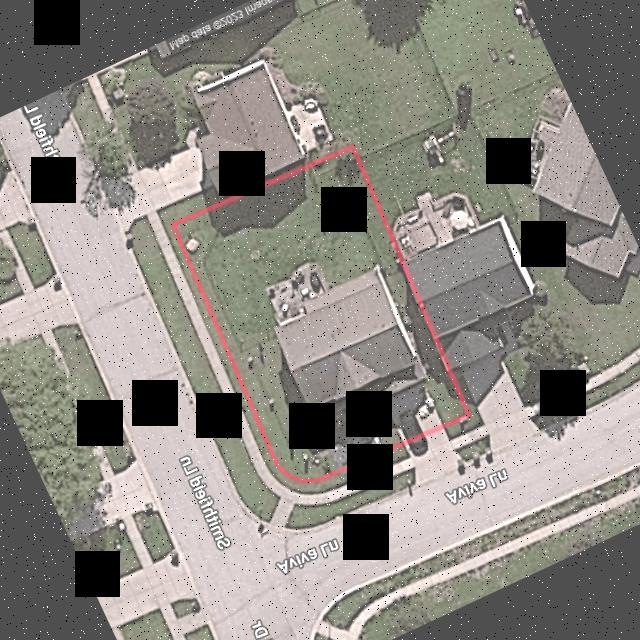Driveway: (374, 361, 441, 440)
Extra Driveway: (404, 428, 467, 484)
Extra Lawn: (165, 229, 410, 494), (131, 237, 279, 522), (283, 467, 415, 529), (444, 415, 476, 439), (453, 437, 484, 461)
Extra Sidewalk: (154, 232, 413, 505), (268, 498, 293, 526), (450, 427, 480, 449)
House: (273, 267, 418, 407)
Other: (264, 259, 328, 324)
